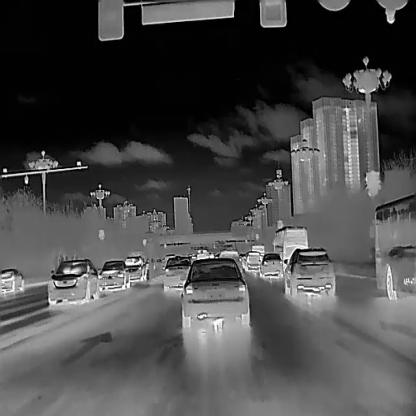bus: (368, 191, 416, 301), (271, 224, 307, 264), (250, 243, 264, 258)
car: (178, 256, 249, 326), (281, 246, 335, 295), (46, 258, 100, 303), (97, 258, 131, 290), (162, 256, 189, 289), (123, 254, 147, 280), (258, 252, 282, 277), (0, 268, 24, 292), (218, 248, 242, 271), (242, 250, 262, 271)
truck: (196, 248, 208, 259)
